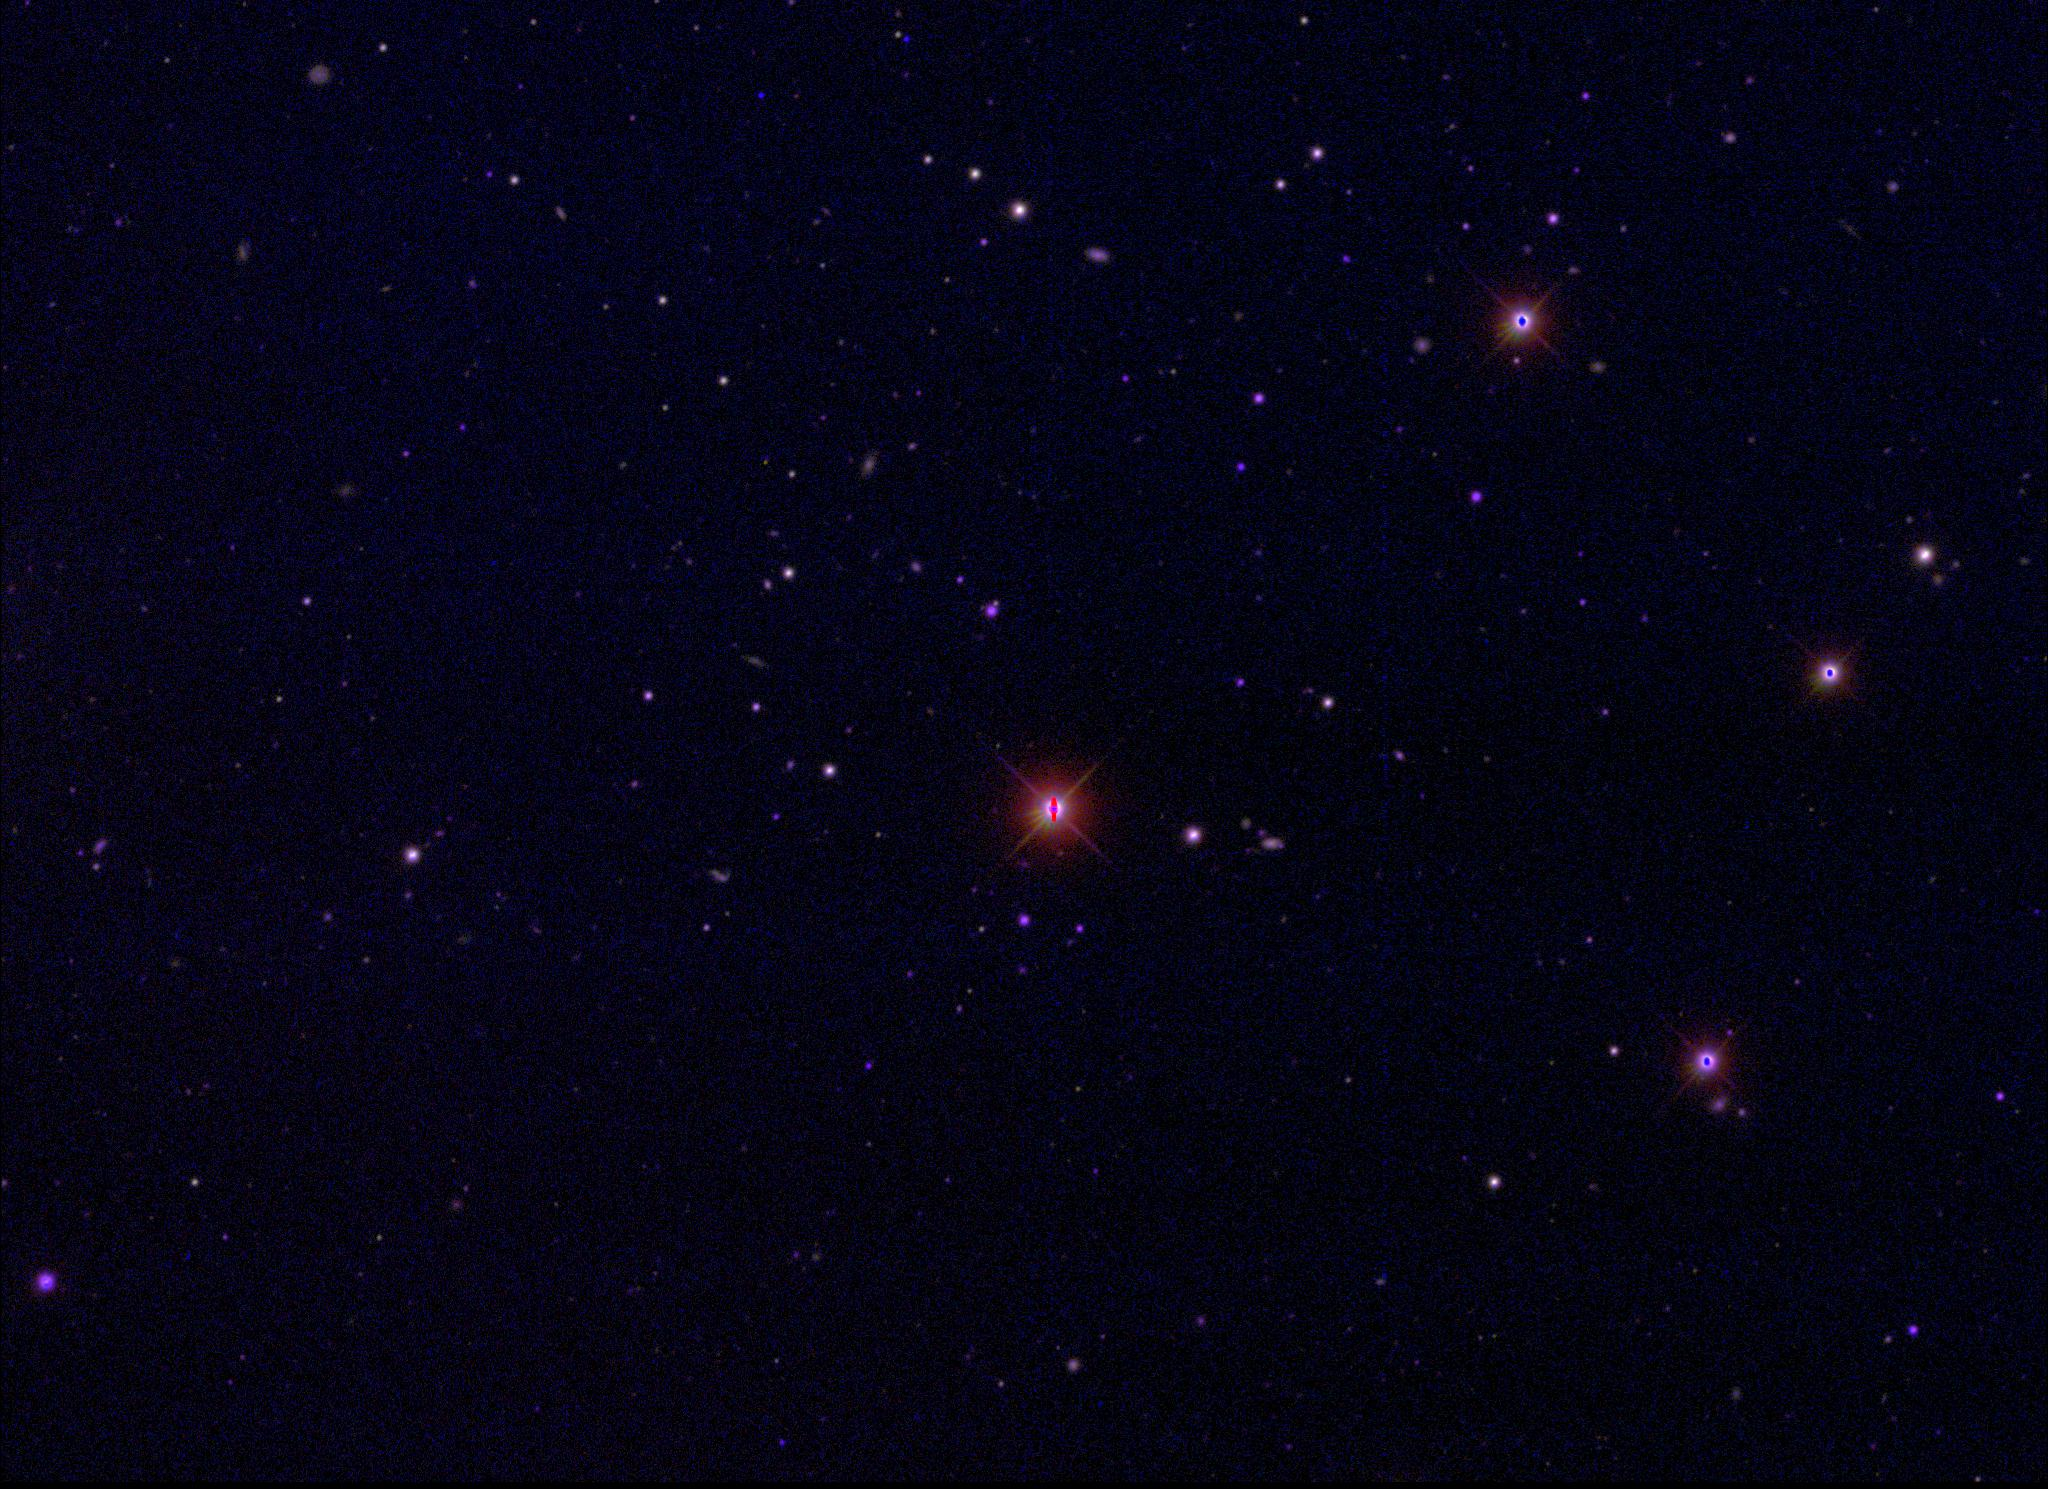L: (754, 87, 768, 102), (898, 32, 913, 46)
